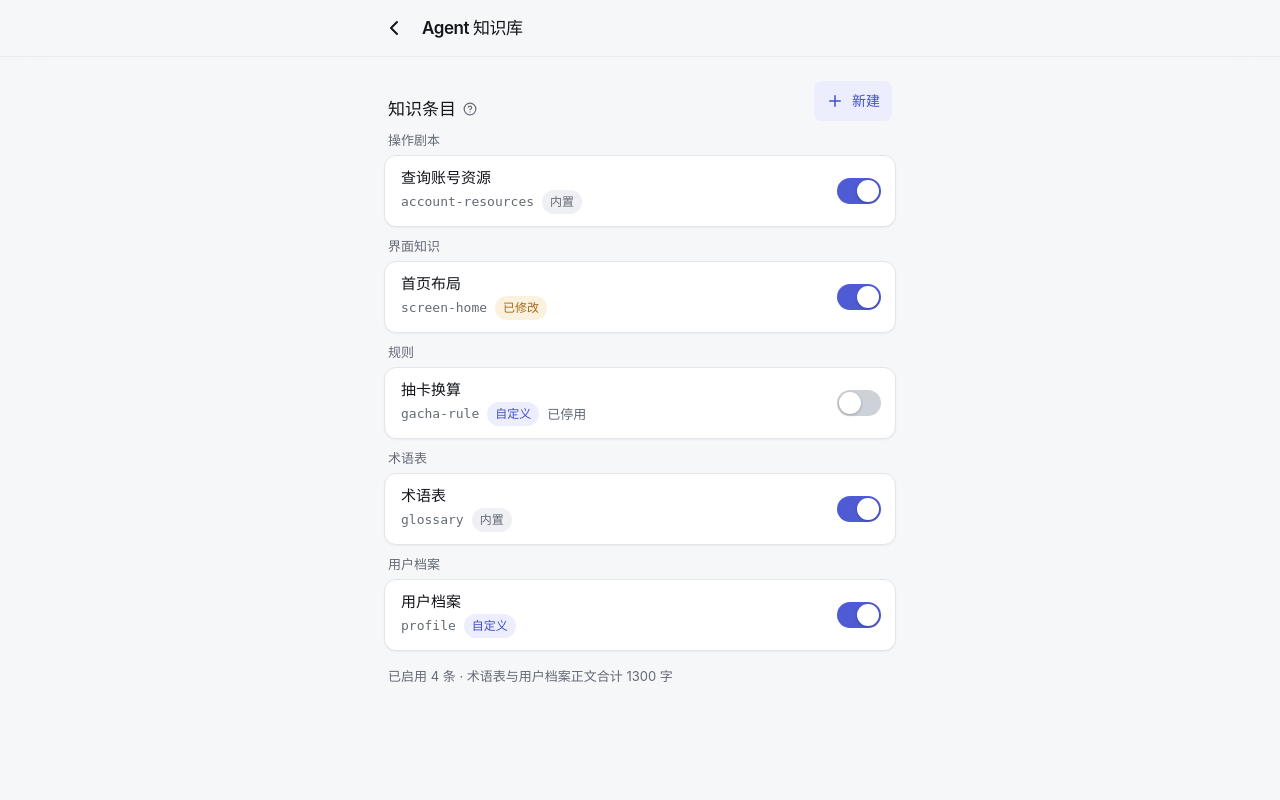
Test: knowledge settings section › shows a readable line for a 409 from the switch
The image size is (1280, 800).
Click the switch named "启用「抽卡换算」" at (859,403), box [837, 390, 881, 416]
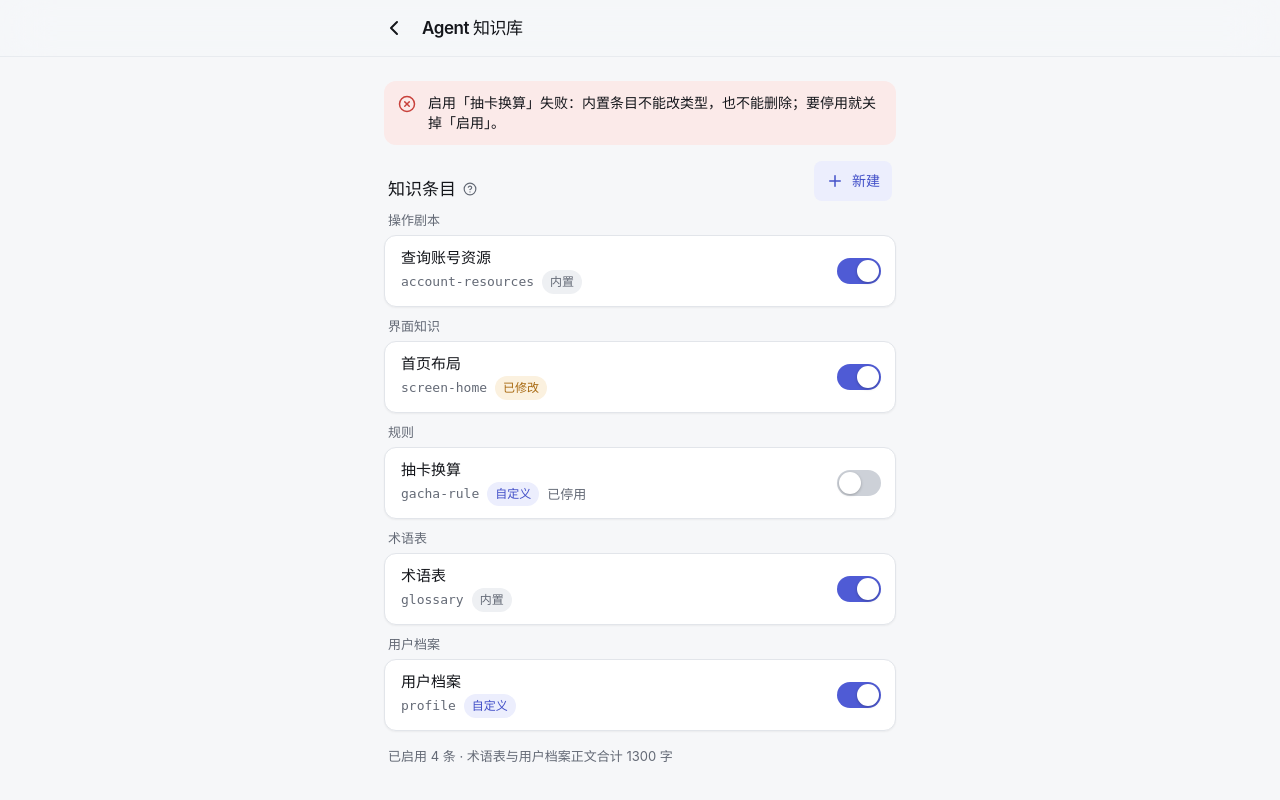
Expected: the message shows "内置条目不能改类型", [428, 94, 876, 131]
Expected: the message shows "也不能删除", [428, 94, 876, 131]
